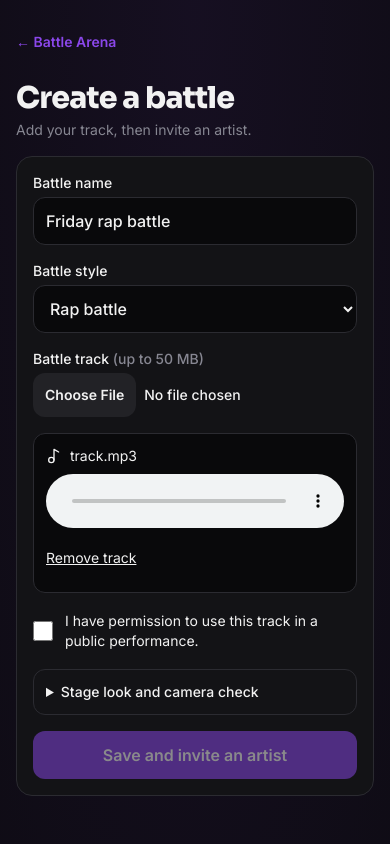
uploads a permitted track and opens the invitation step for the saved battle
Earlier steps of the test are not shown.
Expected: the button "Save and invite an artist" is disabled, [33,731,357,779]
Click the checkbox labelled "I have permission to use this track in a public performance." at {"x": 43, "y": 631}, box [33,621,53,641]
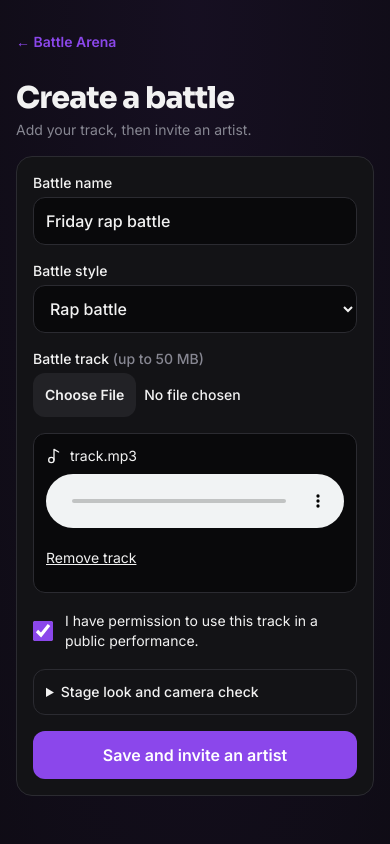
Click the button "Save and invite an artist" at {"x": 195, "y": 755}, box [33,731,357,779]
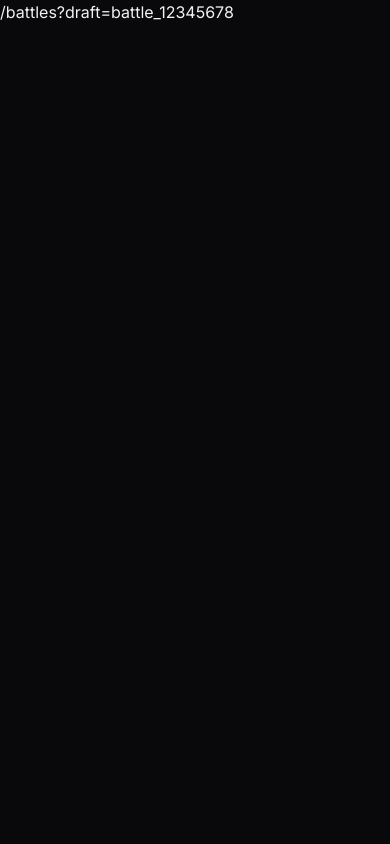
Expected: the text "/battles?draft=battle_12345678" is shown, [0,2,234,22]
